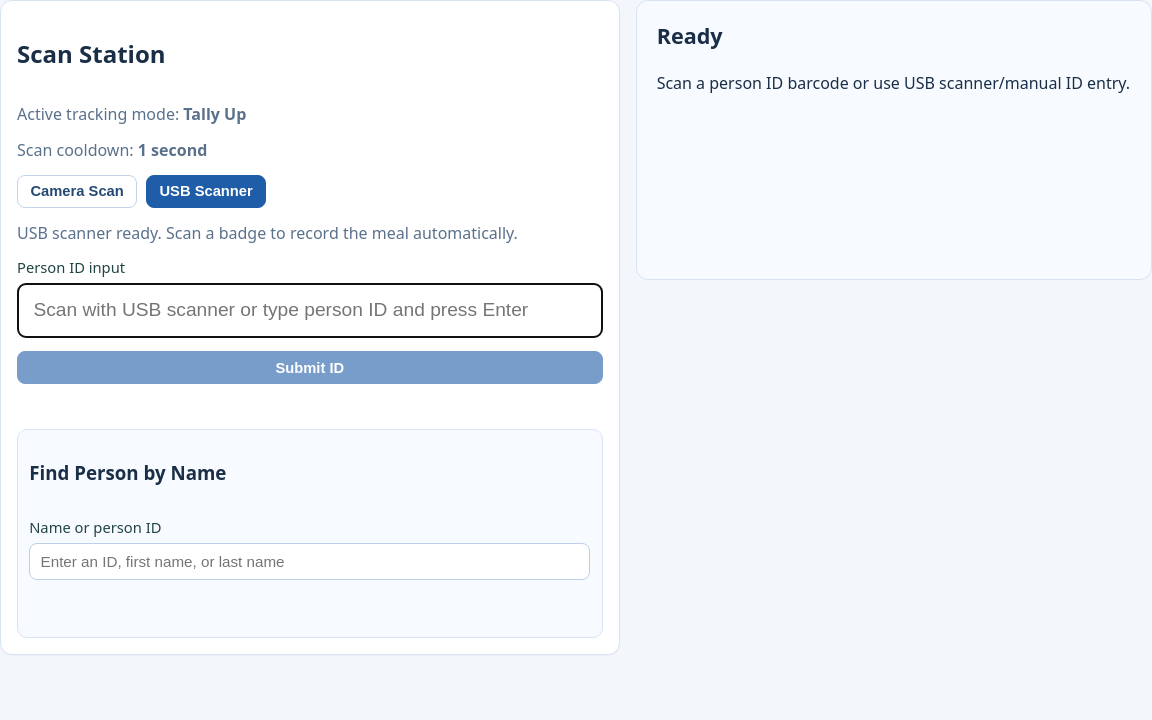
Test: Scan station › records a scan, empties the box and keeps it focused
In the field labelled "Person ID input": (310, 310) 17,283 -> 603,338, type "1377289"
Then press Enter
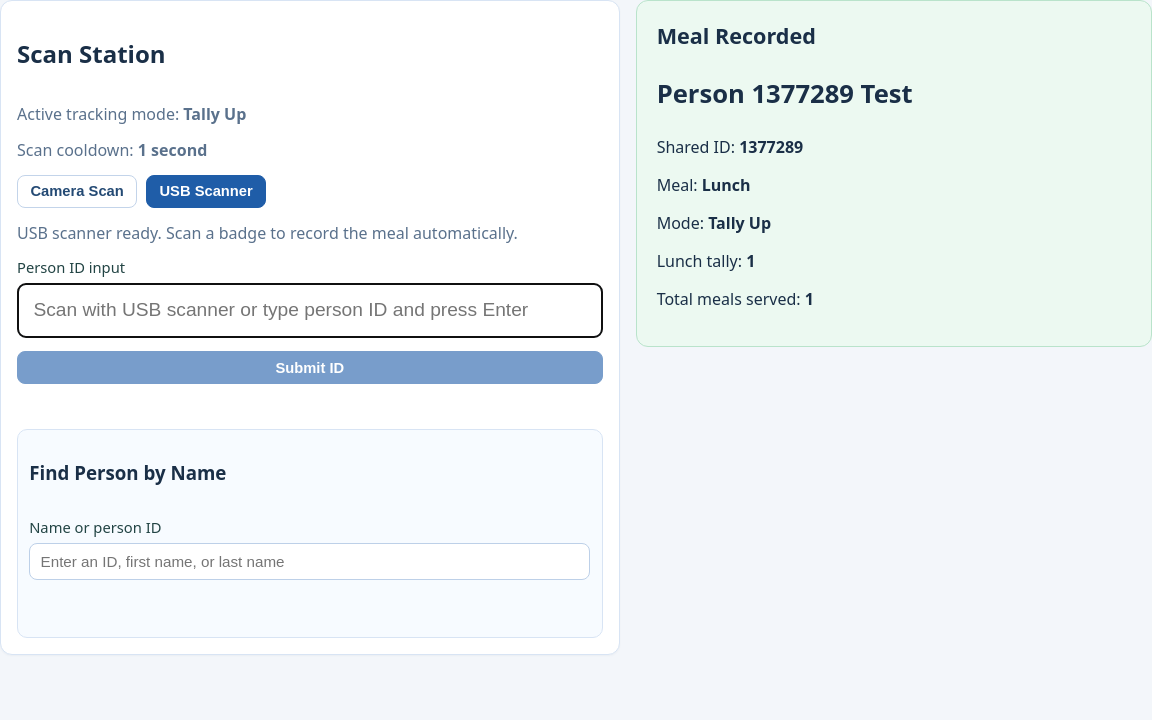
Check: the heading "Meal Recorded" is shown, box 657,21 -> 816,50
